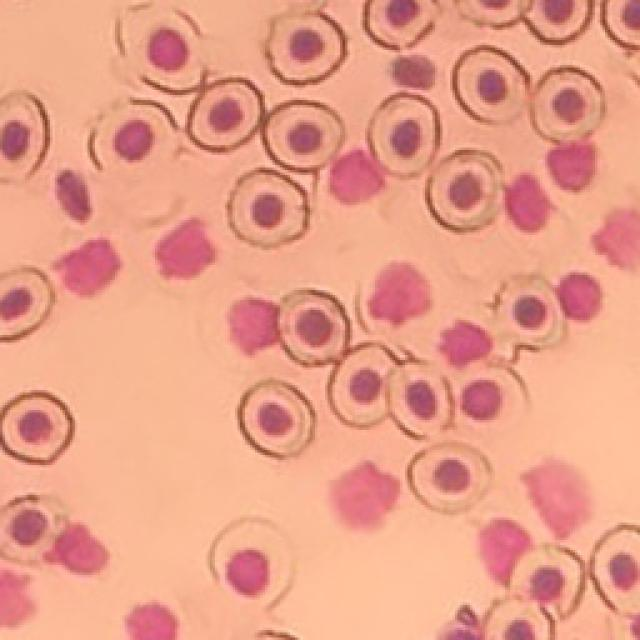RBC: (0, 495, 109, 574), (118, 5, 206, 94), (210, 518, 292, 608), (89, 100, 179, 173), (229, 169, 309, 247), (238, 380, 315, 458), (452, 46, 529, 123), (329, 342, 398, 427), (266, 12, 346, 85), (428, 150, 501, 230), (262, 100, 344, 171), (408, 442, 491, 512), (275, 289, 350, 366), (369, 94, 439, 176), (509, 544, 585, 619), (0, 392, 74, 464), (188, 79, 261, 151), (532, 68, 604, 141), (454, 364, 529, 428), (390, 361, 451, 438), (496, 275, 562, 346), (591, 524, 640, 614), (0, 92, 50, 179), (0, 268, 54, 339), (364, 0, 438, 48), (525, 0, 592, 44), (484, 598, 554, 640), (456, 1, 530, 28)
WBC: (522, 459, 590, 538), (331, 461, 400, 528), (369, 262, 430, 325), (55, 239, 120, 296), (155, 219, 215, 277), (479, 519, 531, 584), (44, 524, 109, 573), (228, 298, 280, 354), (330, 150, 384, 203), (592, 210, 640, 268), (506, 174, 551, 231), (546, 141, 595, 191), (439, 321, 492, 367), (556, 274, 601, 319), (126, 602, 178, 640), (0, 570, 34, 626), (56, 170, 91, 221), (392, 55, 435, 89)
